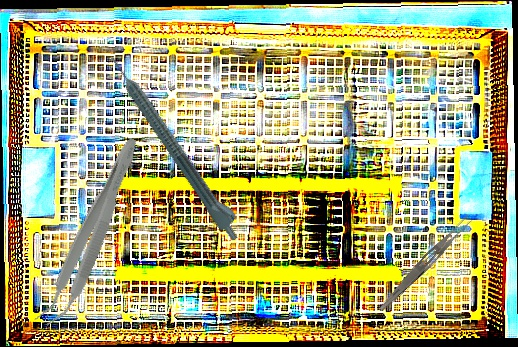Dressing Forceps: (376, 211, 476, 317)
Handpiece: (106, 48, 249, 244)
Tissue Forceps: (33, 131, 146, 333)
